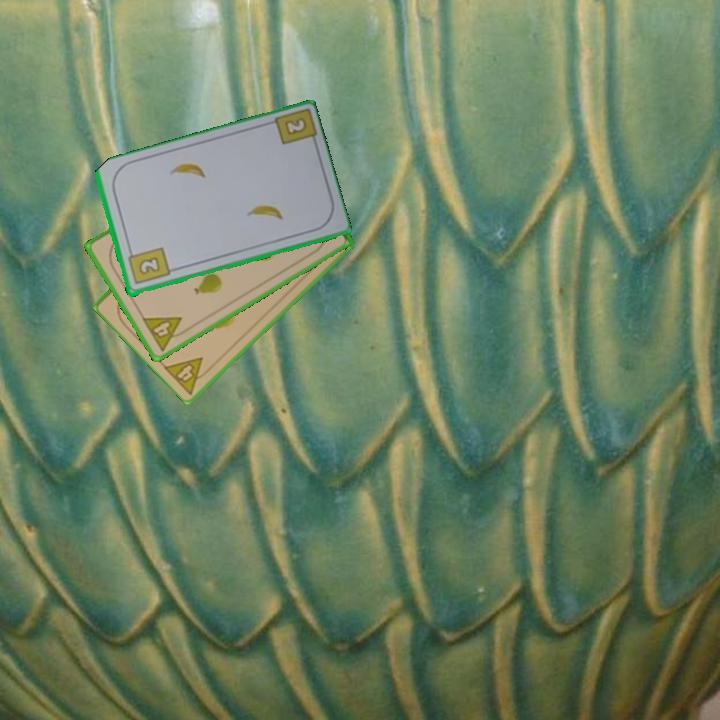2b: (124, 244, 172, 288), (283, 116, 307, 136)
4p: (160, 353, 216, 397), (138, 313, 191, 354)
